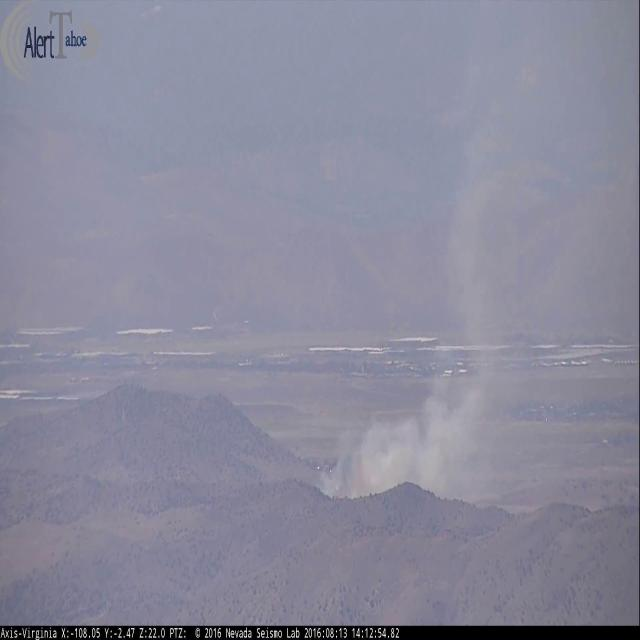smoke: (320, 94, 526, 504)
